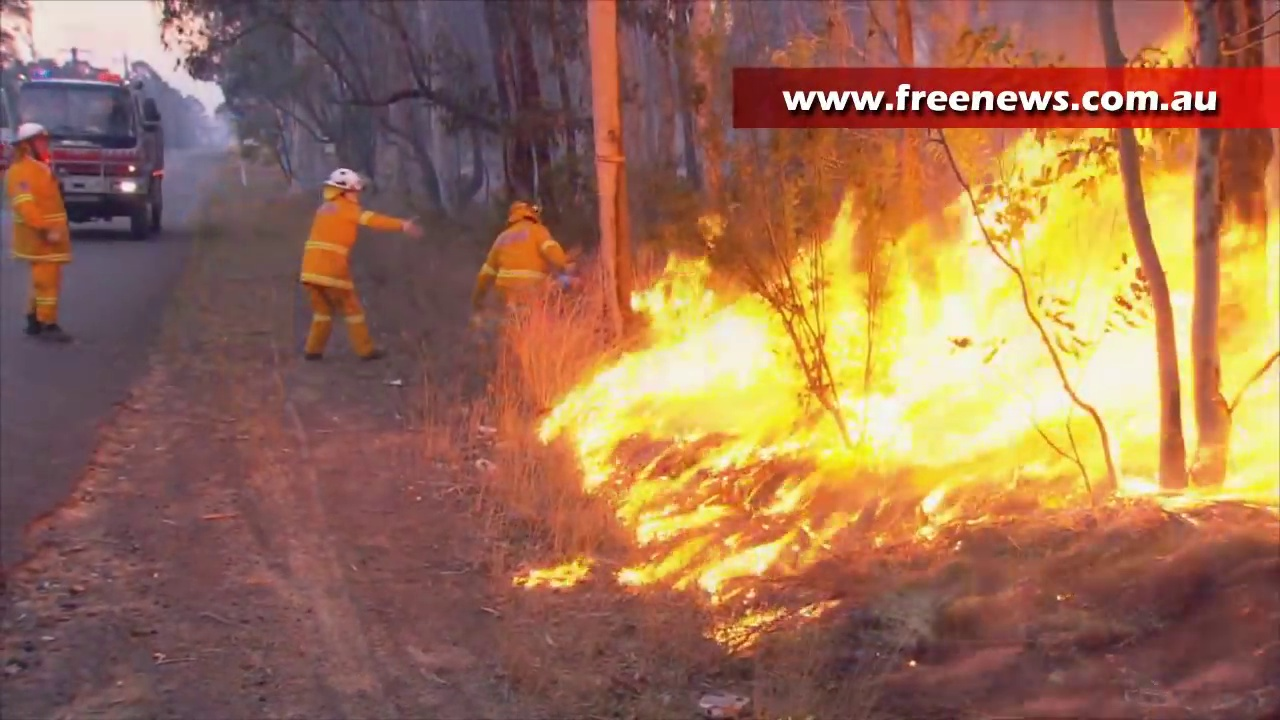fire: (531, 128, 1280, 560)
